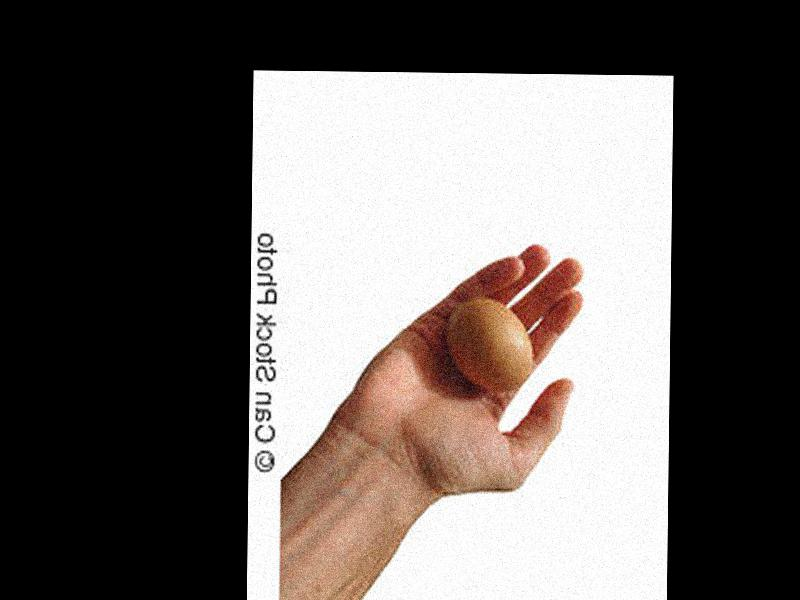Eggs: (447, 296, 530, 388)
